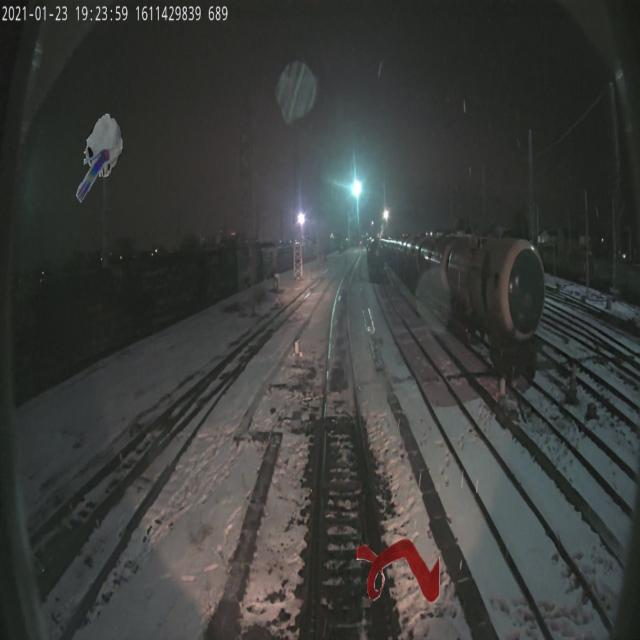floating object: (357, 538, 440, 602), (75, 144, 111, 208)
plastic bag: (84, 112, 123, 176)
